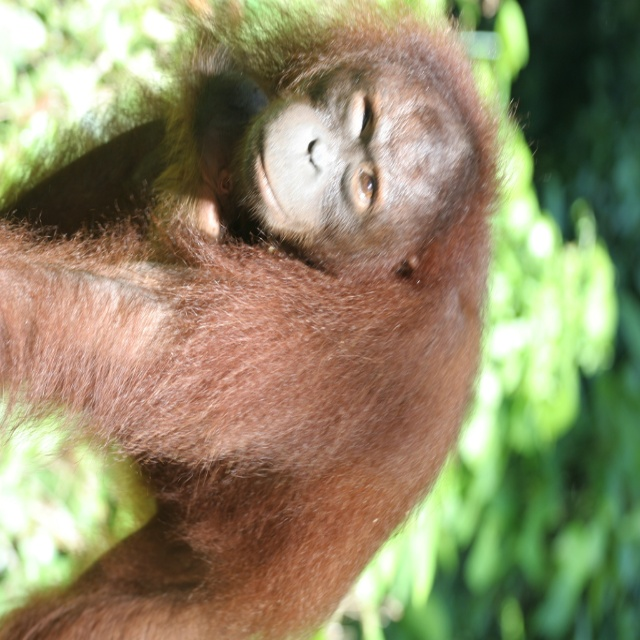Monkey: (0, 0, 541, 640)
